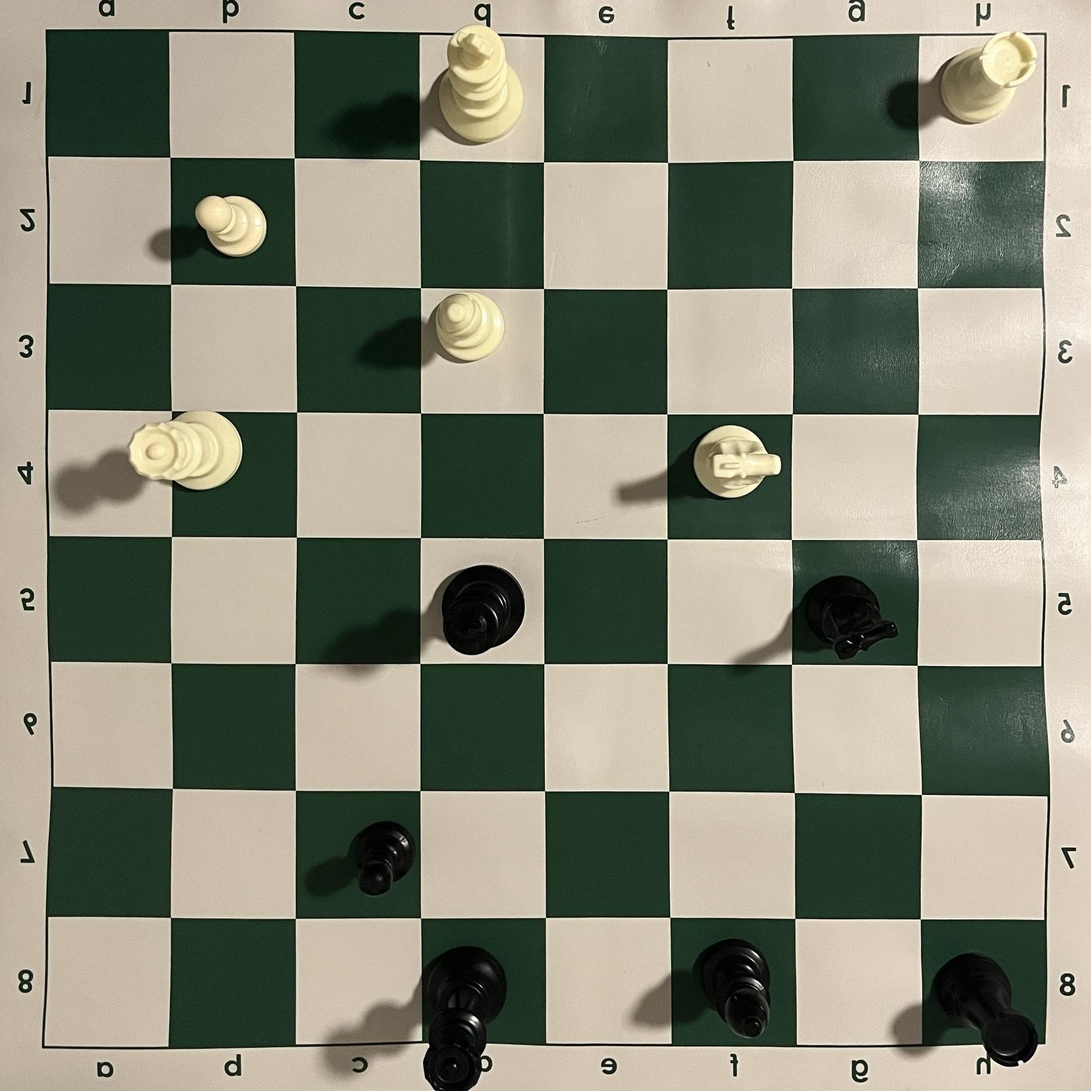black_bishop: (692, 937, 772, 1039)
black_king: (441, 564, 526, 657)
black_knight: (799, 575, 900, 659)
black_pawn: (347, 820, 415, 898)
black_queen: (421, 946, 508, 1090)
black_rook: (929, 952, 1039, 1068)
white_bishop: (435, 291, 505, 363)
white_king: (438, 24, 524, 146)
white_knight: (692, 425, 782, 499)
white_pawn: (195, 195, 267, 258)
white_queen: (127, 410, 243, 491)
white_rook: (939, 31, 1039, 124)
